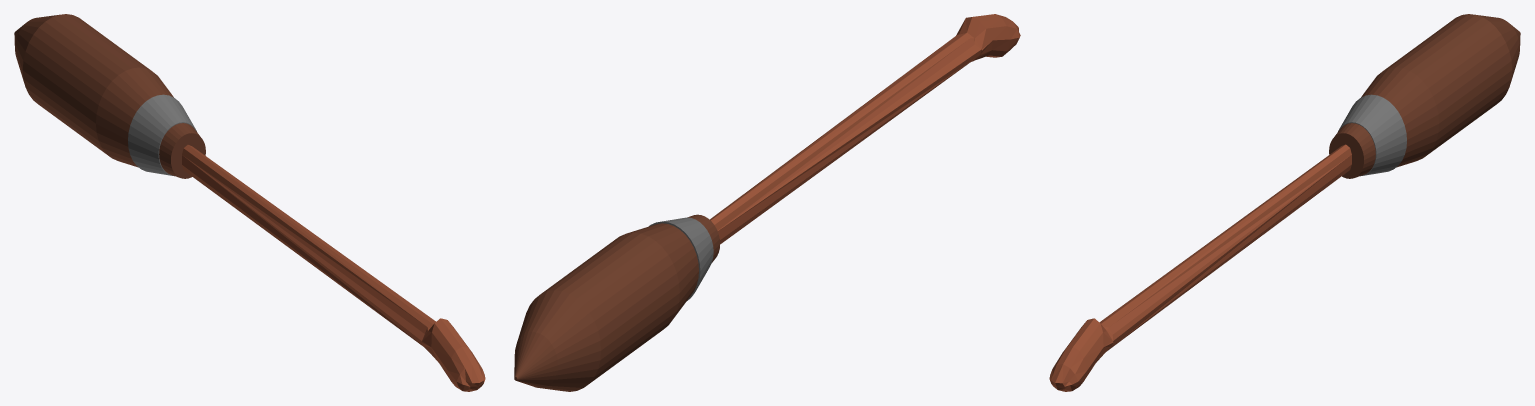
The model's file is brossdur1.obj.
The picture shows the model from 3 angles, left to right: view 1: azimuth 30°, elevation 25°; view 2: azimuth 150°, elevation 25°; view 3: azimuth 330°, elevation 25°; orthographic projection. The views are drawn at different scales.
Visible parts, largest first — view 1: Body; view 2: Body; view 3: Body.
Part boxes in pixels (x1,y1,x2,y2): Body: (14, 14, 485, 391); Body: (514, 14, 1020, 391); Body: (1049, 14, 1520, 391).
Size of the model in its own units: 0.4293 by 0.5255 by 4.75.
